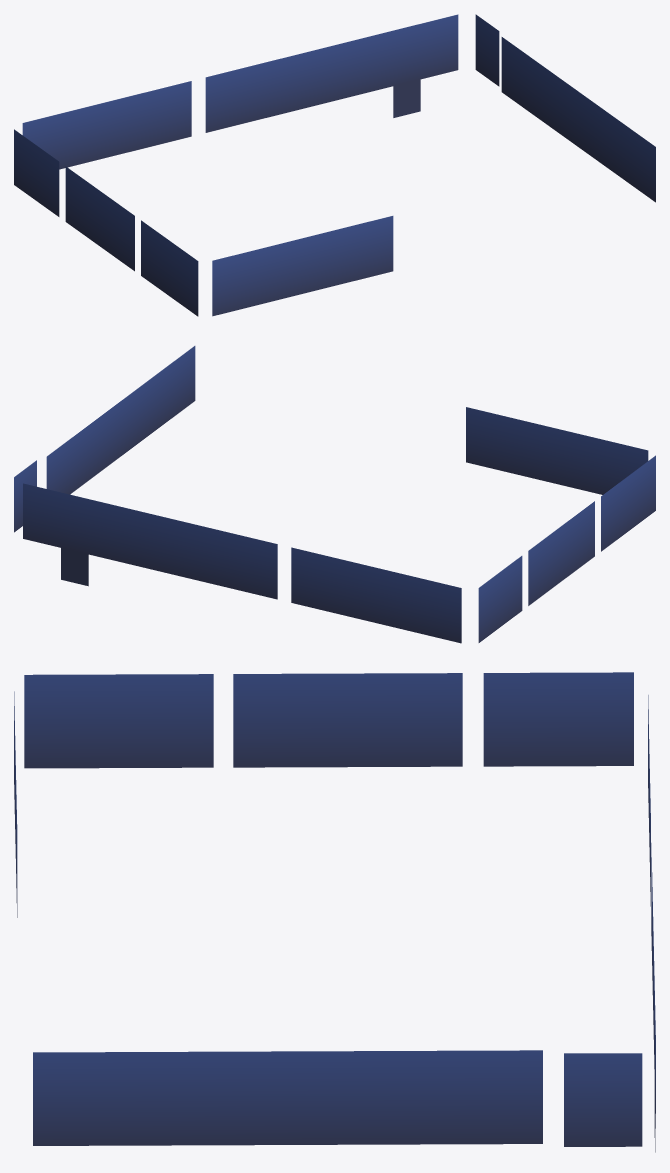
The model's file is windowRefl.052.fbx.
3 views of the same model, one above another, from view 1: azimuth 30°, elevation 25°; view 2: azimuth 150°, elevation 25°; view 3: azimuth 270°, elevation 25° (orthographic). The views are drawn at different scales.
Visible parts, largest first — view 1: windowRefl.052; view 2: windowRefl.052; view 3: windowRefl.052.
Part boxes in pixels (<box>): windowRefl.052: <box>14,14,655,316</box>; windowRefl.052: <box>14,346,655,643</box>; windowRefl.052: <box>14,672,655,1152</box>.
Size of the model in its own units: 1516 by 2130 by 384.
